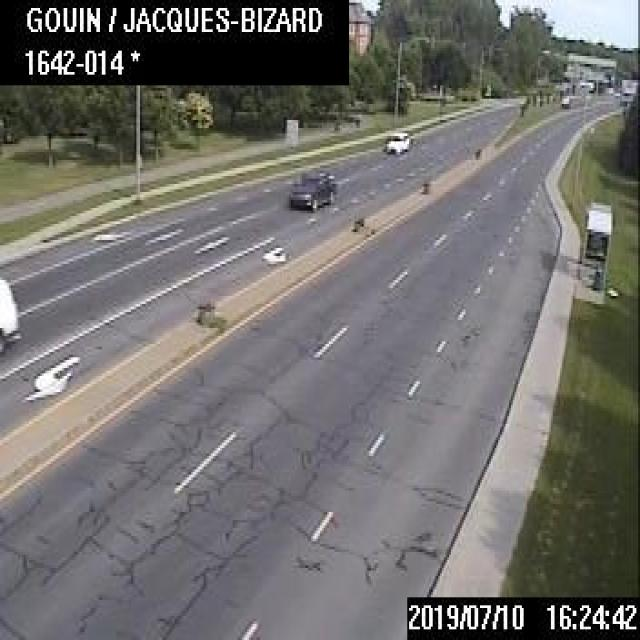vehicle: (286, 165, 334, 208), (0, 274, 18, 354), (384, 131, 407, 152)
